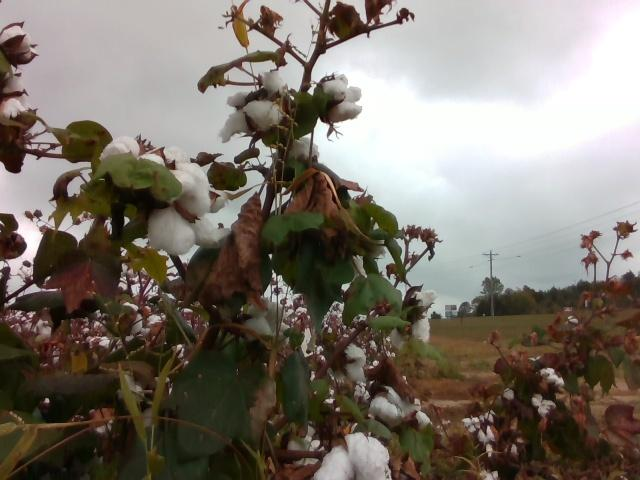cotton_ready: (145, 161, 227, 252), (219, 69, 287, 142), (315, 434, 390, 480), (389, 287, 440, 348), (101, 132, 174, 172), (370, 388, 432, 426), (317, 72, 363, 122), (243, 298, 288, 341), (325, 345, 366, 386), (0, 25, 35, 65), (0, 76, 29, 119), (281, 136, 324, 165)
